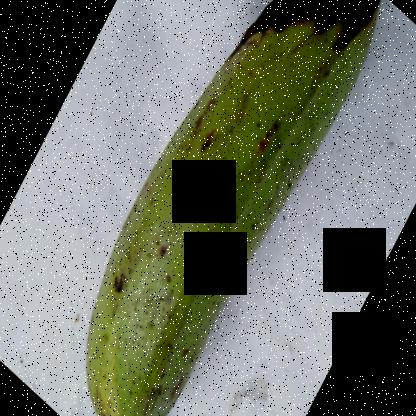rotten: (211, 0, 416, 84)
unripe: (76, 50, 367, 415)
